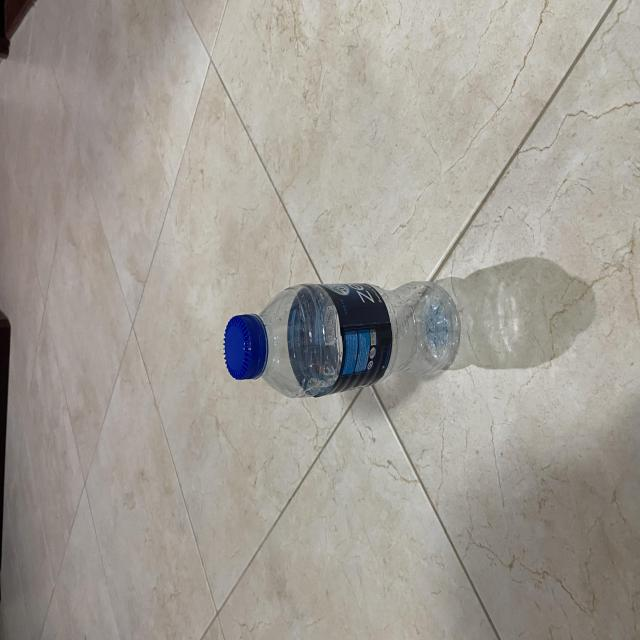bottle: (212, 272, 464, 401)
